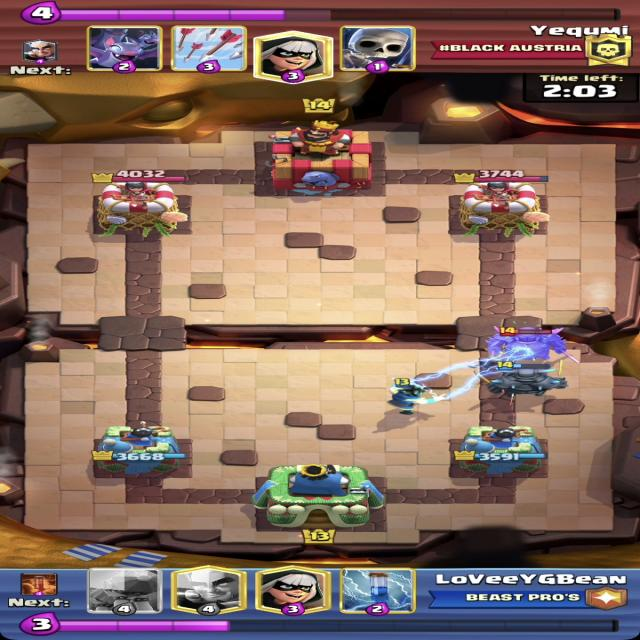Enemy-PEKKA: (488, 326, 567, 360)
Player-ElectroWizard: (386, 378, 448, 415)
Player-PEKKA: (478, 361, 569, 396)
